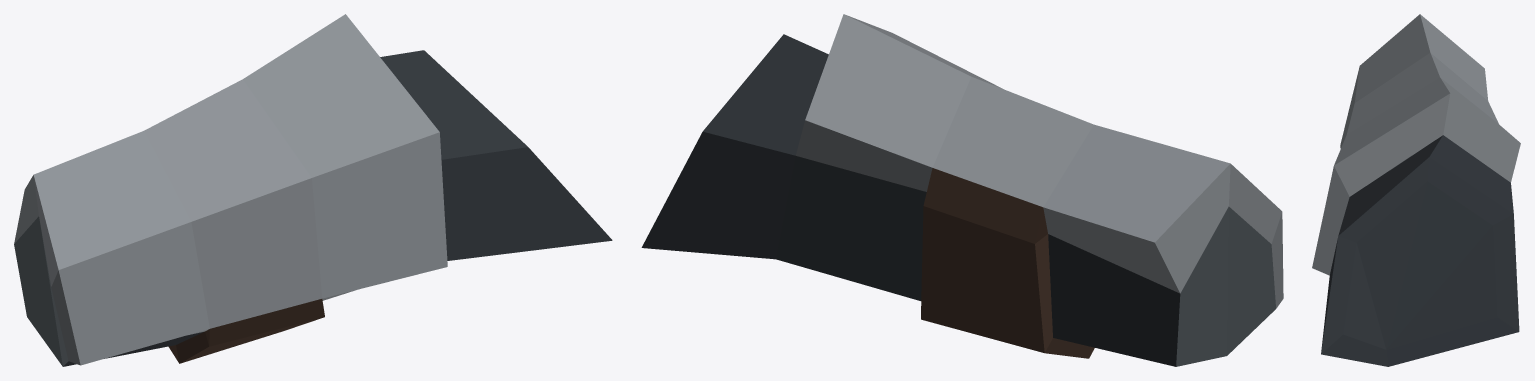
File: Chr_ArmUpperRight_Female_08_Static.fbx
The picture shows the model from 3 angles, left to right: view 1: azimuth 30°, elevation 25°; view 2: azimuth 150°, elevation 25°; view 3: azimuth 270°, elevation 25°; orthographic projection. The views are drawn at different scales.
Visible parts, largest first — view 1: Chr_ArmUpperRight_Female_08_Static; view 2: Chr_ArmUpperRight_Female_08_Static; view 3: Chr_ArmUpperRight_Female_08_Static.
Boxes of the visible parts, x1,y1,x2,y2 form: Chr_ArmUpperRight_Female_08_Static: (14, 14, 612, 366); Chr_ArmUpperRight_Female_08_Static: (641, 14, 1283, 366); Chr_ArmUpperRight_Female_08_Static: (1312, 14, 1520, 366).
Bounding box in the file's own units: 0.3543 × 0.1802 × 0.1432.
